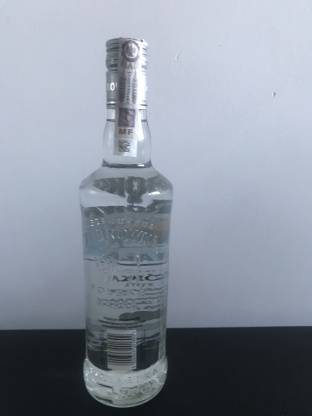nakretka: (102, 33, 150, 113)
